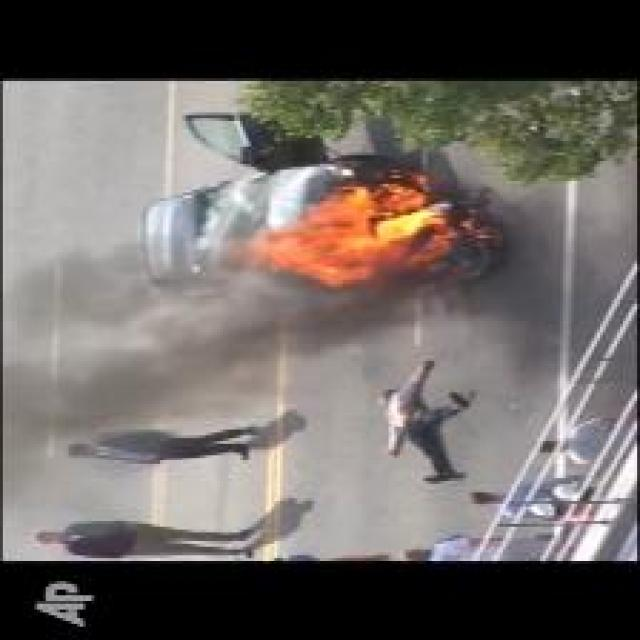Fire: (224, 176, 458, 284)
